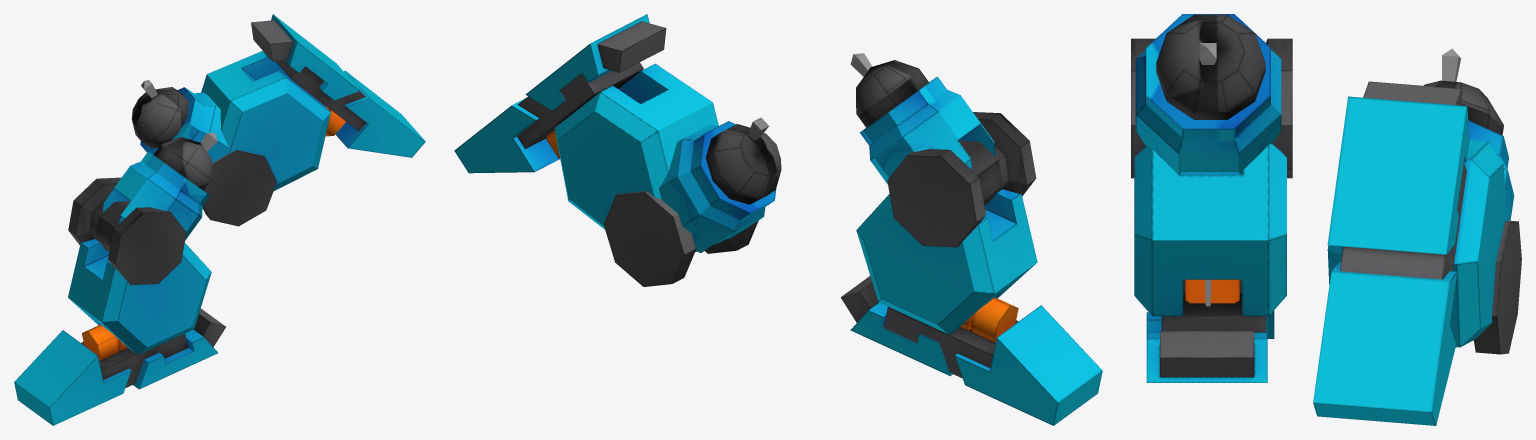
The model's file is Bottom_Running21.obj.
The picture shows the model from 3 angles, left to right: view 1: azimuth 30°, elevation 25°; view 2: azimuth 150°, elevation 25°; view 3: azimuth 270°, elevation 25°; orthographic projection. The views are drawn at different scales.
Parts seen in each view (by area): view 1: Object013, Object010, Object014, Object011, Object012, Object009; view 2: Object013, Object010, Object014, Object011, Object009, Object012; view 3: Object011, Object013, Object012, Object010, Object014, Object009, Bone006, Bone023.
Boxes of the visible parts, left/top/right/bottom form: Object013: left=68, top=177, right=211, bottom=354; Object010: left=201, top=51, right=330, bottom=226; Object014: left=14, top=308, right=225, bottom=425; Object011: left=251, top=14, right=425, bottom=157; Object012: left=102, top=137, right=211, bottom=240; Object009: left=131, top=87, right=229, bottom=162; Object013: left=856, top=112, right=1037, bottom=334; Object010: left=554, top=63, right=758, bottom=286; Object014: left=841, top=276, right=1102, bottom=425; Object011: left=454, top=14, right=666, bottom=173; Object009: left=659, top=121, right=781, bottom=252; Object012: left=856, top=60, right=995, bottom=184; Object011: left=1313, top=81, right=1469, bottom=425; Object013: left=1131, top=38, right=1292, bottom=316; Object012: left=1135, top=14, right=1281, bottom=174; Object010: left=1327, top=140, right=1521, bottom=354; Object014: left=1146, top=279, right=1274, bottom=382; Object009: left=1424, top=80, right=1514, bottom=220; Bone006: left=1442, top=48, right=1460, bottom=81; Bone023: left=1199, top=43, right=1216, bottom=64.
Bounding box in the file's own units: 200 × 119 × 91.4.
